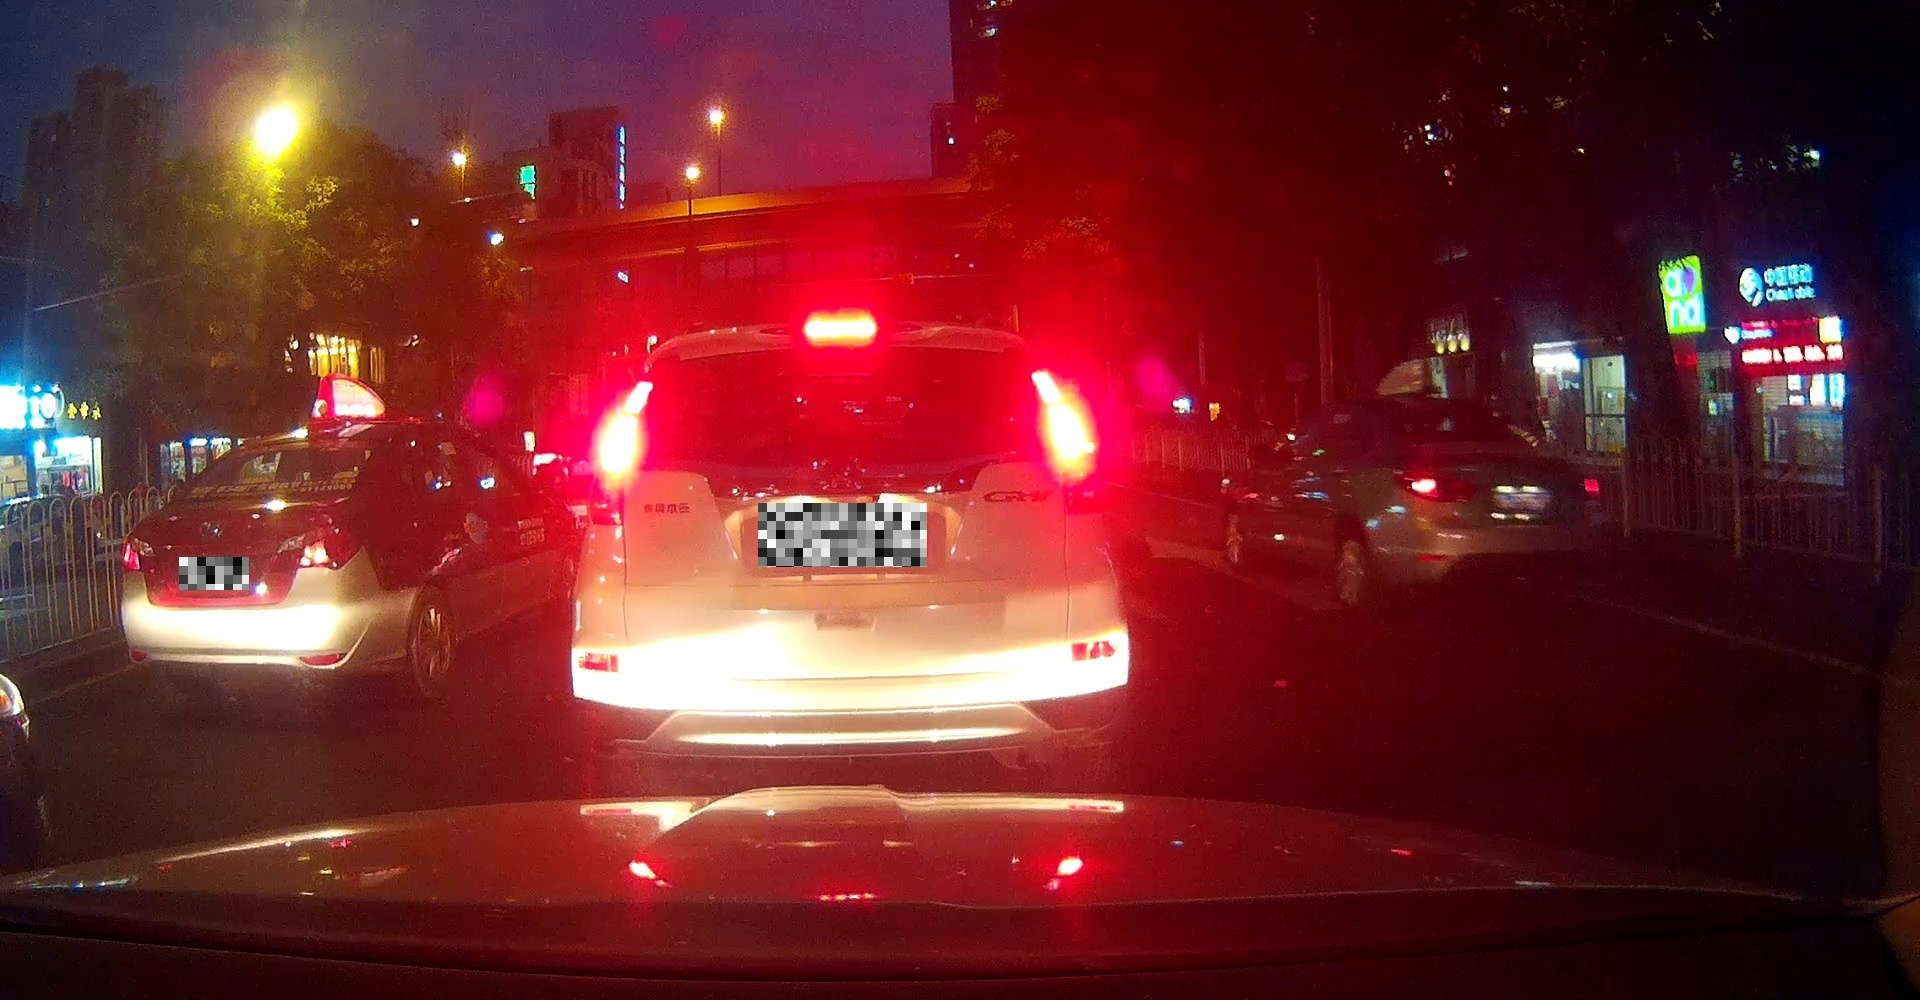L_light: (585, 410, 643, 525), (1396, 462, 1481, 503), (118, 536, 163, 575)
R_light: (1041, 392, 1107, 514), (265, 524, 364, 570), (1573, 468, 1606, 503)
T_light: (803, 312, 877, 346), (272, 437, 314, 448), (1448, 398, 1488, 407)
night-brake: (570, 308, 1131, 779)
night-no: (118, 424, 392, 697), (1379, 395, 1608, 591)
plate_1: (179, 557, 249, 590)
plate_2: (758, 503, 927, 567)
